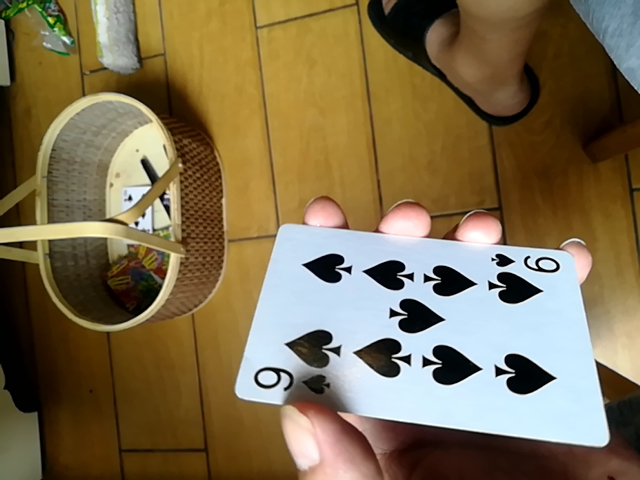ht 9: (229, 225, 601, 446)
